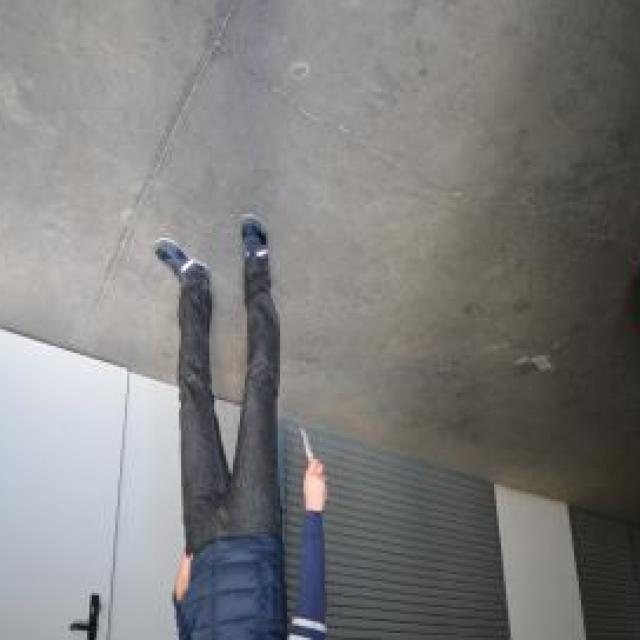knife: (296, 420, 328, 504)
